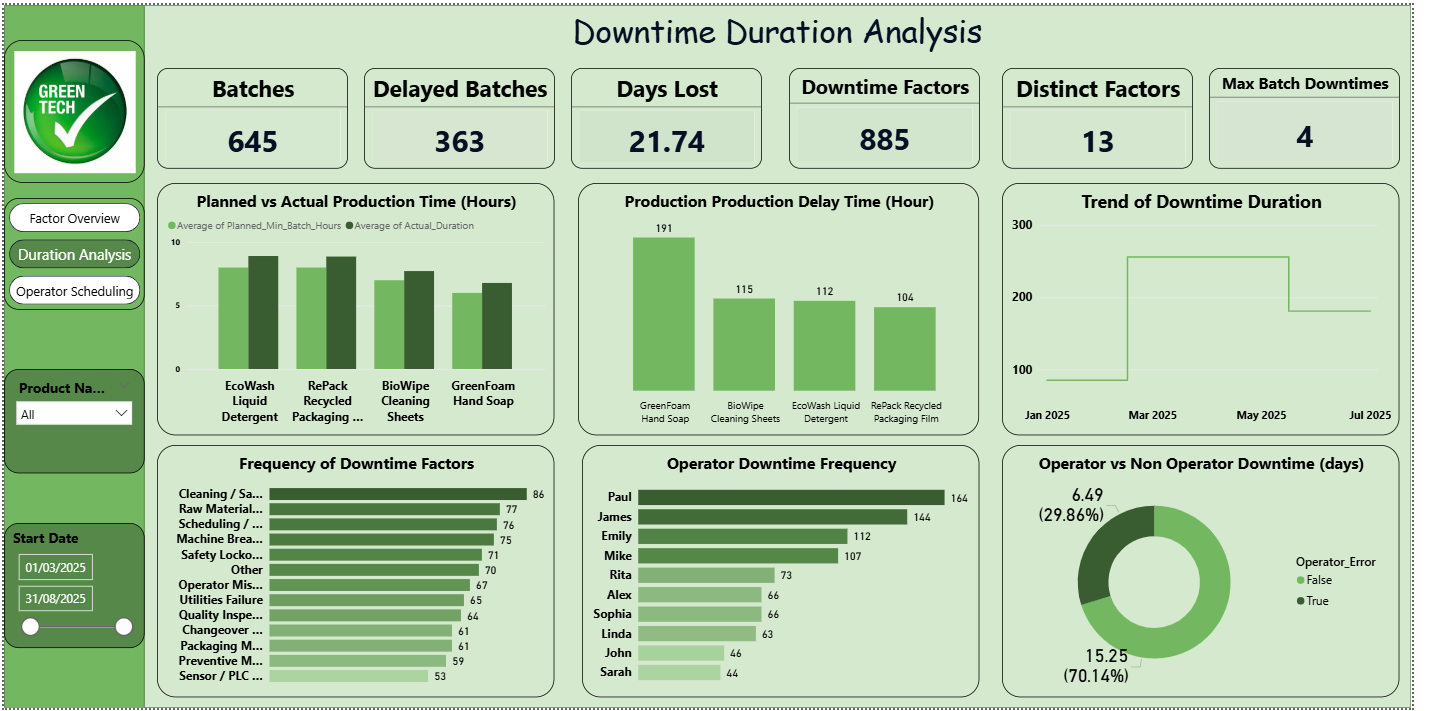

The dashboard page shown, as its layout file describes it:
{"tool":"powerbi","page":{"name":"Duration Analysis","canvas":[1902,950],"ordinal":1},"visuals":[{"type":"shape","box":[189.2,0,1712.2,950],"z":0},{"type":"shape","box":[0,0,189.8,950.8],"z":1000},{"type":"textbox","box":[189.8,0,1711.9,950.8],"z":2000},{"type":"cardVisual","title":"Batches","fields":{"Data":["CountNonNull(batch_pd.Batch_ID)"]},"box":[206.8,84.7,257.6,135.6],"z":3000},{"type":"cardVisual","title":"Max Batch Downtimes","fields":{"Data":["downtimes.Max Downtime Per Batch"]},"box":[1628.8,84.7,257.6,135.6],"z":4000},{"type":"cardVisual","title":"Distinct Factors","fields":{"Data":["Count(downtimes.Factor_ID)"]},"box":[1349.2,84.7,257.6,135.6],"z":5000},{"type":"cardVisual","title":"Downtime Factors","fields":{"Data":["CountNonNull(downtimes.Factor_ID)"]},"box":[1061,84.7,257.6,135.6],"z":6000},{"type":"cardVisual","title":"Days Lost","fields":{"Data":["Sum(downtimes.Days)"]},"box":[766.1,84.7,257.6,135.6],"z":7000},{"type":"cardVisual","title":"Delayed Batches","fields":{"Data":["Count(downtimes.Batch_ID)"]},"box":[486.4,84.7,257.6,135.6],"z":8000},{"type":"clusteredColumnChart","title":"Planned vs Actual Production Time (Hours)","fields":{"Category":["products.Product_Name"],"Y":["Avg(batch_pd.Planned_Min_Batch_Hours)","Avg(batch_pd.Actual_Duration)"]},"box":[206.8,240.7,537.3,340.7],"z":9000},{"type":"columnChart","title":"Production Production Delay Time (Hour)","fields":{"Y":["Sum(downtimes.Hour)"],"Category":["products.Product_Name"]},"box":[776.3,240.7,542.4,340.7],"z":10000},{"type":"lineChart","title":"Trend of Downtime Duration","fields":{"Y":["Sum(downtimes.Hour)"],"Category":["batch_pd.Start_Date.Variation.Date Hierarchy.Year","batch_pd.Start_Date.Variation.Date Hierarchy.Quarter","batch_pd.Start_Date.Variation.Date Hierarchy.Month","batch_pd.Start_Date.Variation.Date Hierarchy.Day"]},"box":[1349.2,240.7,537.3,340.7],"z":11000},{"type":"barChart","title":"Frequency of Downtime Factors","fields":{"Category":["downtime_factors.Factor_Name"],"Y":["CountNonNull(downtimes.Factor_ID)"]},"box":[206.8,594.9,537.3,340.7],"z":12000},{"type":"barChart","title":"Operator Downtime Frequency","fields":{"Y":["CountNonNull(downtimes.Factor_ID)"],"Category":["batch_pd.Operator"]},"box":[781.4,594.9,537.3,340.7],"z":13000},{"type":"donutChart","title":"Operator vs Non Operator Downtime (days)","fields":{"Category":["downtime_factors.Operator_Error"],"Y":["Sum(downtimes.Days)"]},"box":[1349.2,594.9,537.3,340.7],"z":14000},{"type":"slicer","fields":{"Values":["products.Product_Name"]},"box":[0,491.5,189.8,140.7],"z":15000},{"type":"slicer","title":"Start Date","fields":{"Values":["batch_pd.Start_Date"]},"box":[0,700,189.8,169.5],"z":16000},{"type":"image","box":[0,47.5,189.8,193.2],"z":17000},{"type":"pageNavigator","box":[0,261,189.8,150.8],"z":18000}]}

Visuals, with their boxes in screenshot pixels (x1, y1, x2, y2), scaled from the page's 1902x950 canvas onto the 1435x711 screenshot:
shape: bbox=[143, 0, 1434, 710]
shape: bbox=[0, 0, 143, 710]
textbox: bbox=[143, 0, 1434, 710]
"Batches" cardVisual: bbox=[156, 63, 350, 165]
"Max Batch Downtimes" cardVisual: bbox=[1229, 63, 1423, 165]
"Distinct Factors" cardVisual: bbox=[1018, 63, 1212, 165]
"Downtime Factors" cardVisual: bbox=[800, 63, 995, 165]
"Days Lost" cardVisual: bbox=[578, 63, 772, 165]
"Delayed Batches" cardVisual: bbox=[367, 63, 561, 165]
"Planned vs Actual Production Time (Hours)" clusteredColumnChart: bbox=[156, 180, 561, 435]
"Production Production Delay Time (Hour)" columnChart: bbox=[586, 180, 995, 435]
"Trend of Downtime Duration" lineChart: bbox=[1018, 180, 1423, 435]
"Frequency of Downtime Factors" barChart: bbox=[156, 445, 561, 700]
"Operator Downtime Frequency" barChart: bbox=[590, 445, 995, 700]
"Operator vs Non Operator Downtime (days)" donutChart: bbox=[1018, 445, 1423, 700]
slicer - products.Product_Name: bbox=[0, 368, 143, 473]
"Start Date" slicer: bbox=[0, 524, 143, 651]
image: bbox=[0, 36, 143, 180]
pageNavigator: bbox=[0, 195, 143, 308]
